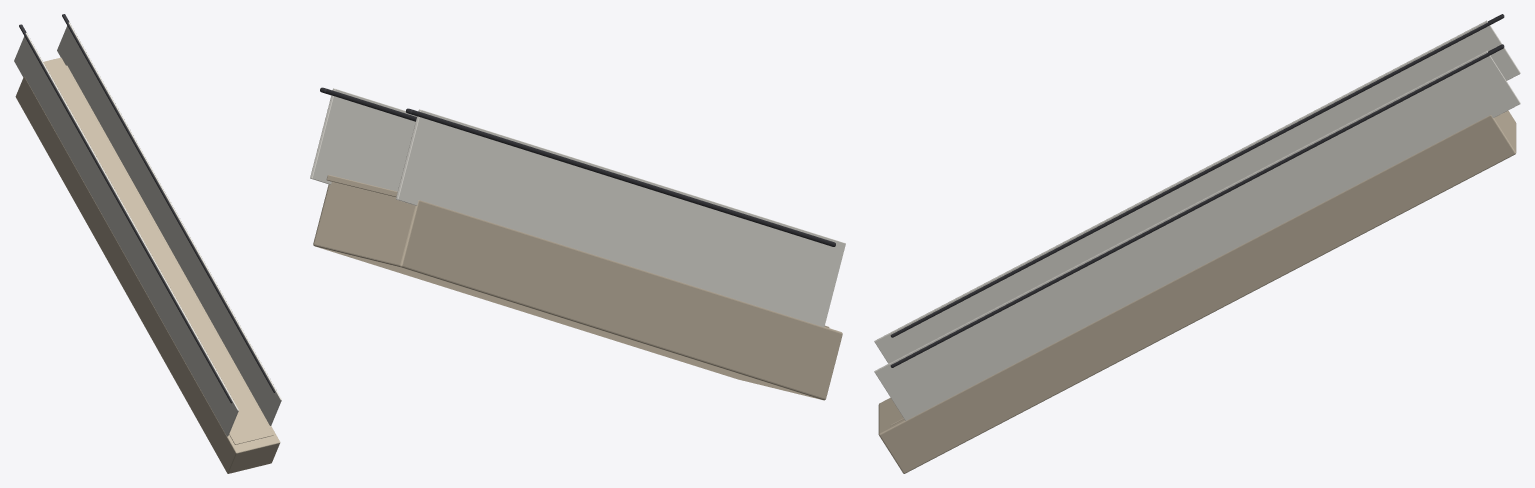
Rendered from escalator.glb.
3 renders of one model, left to right at view 1: azimuth 30°, elevation 25°; view 2: azimuth 150°, elevation 25°; view 3: azimuth 270°, elevation 25°, orthographic. The views are drawn at different scales.
Visible parts, largest first — view 1: esc_truss, esc_bal_-1, esc_bal_1, esc_steps, esc_rail_-1, esc_rail_1; view 2: esc_truss, esc_bal_-1, esc_bal_1, esc_rail_-1, esc_rail_1; view 3: esc_bal_1, esc_truss, esc_bal_-1, esc_rail_1, esc_rail_-1.
Part boxes in pixels (x1,y1,x2,y2): esc_truss: (15,65,280,473); esc_bal_-1: (14,33,238,436); esc_bal_1: (57,22,281,425); esc_steps: (43,57,273,444); esc_rail_-1: (19,24,232,403); esc_rail_1: (62,14,274,392); esc_truss: (313,182,842,400); esc_bal_-1: (396,109,845,326); esc_bal_1: (310,88,416,191); esc_rail_-1: (406,108,835,246); esc_rail_1: (320,87,416,121); esc_bal_1: (874,51,1520,420); esc_truss: (878,110,1516,473); esc_bal_-1: (874,20,1520,363); esc_rail_1: (890,44,1504,367); esc_rail_-1: (890,14,1504,337).
Bounding box in the file's own units: 1.09 × 6.69 × 9.13.
